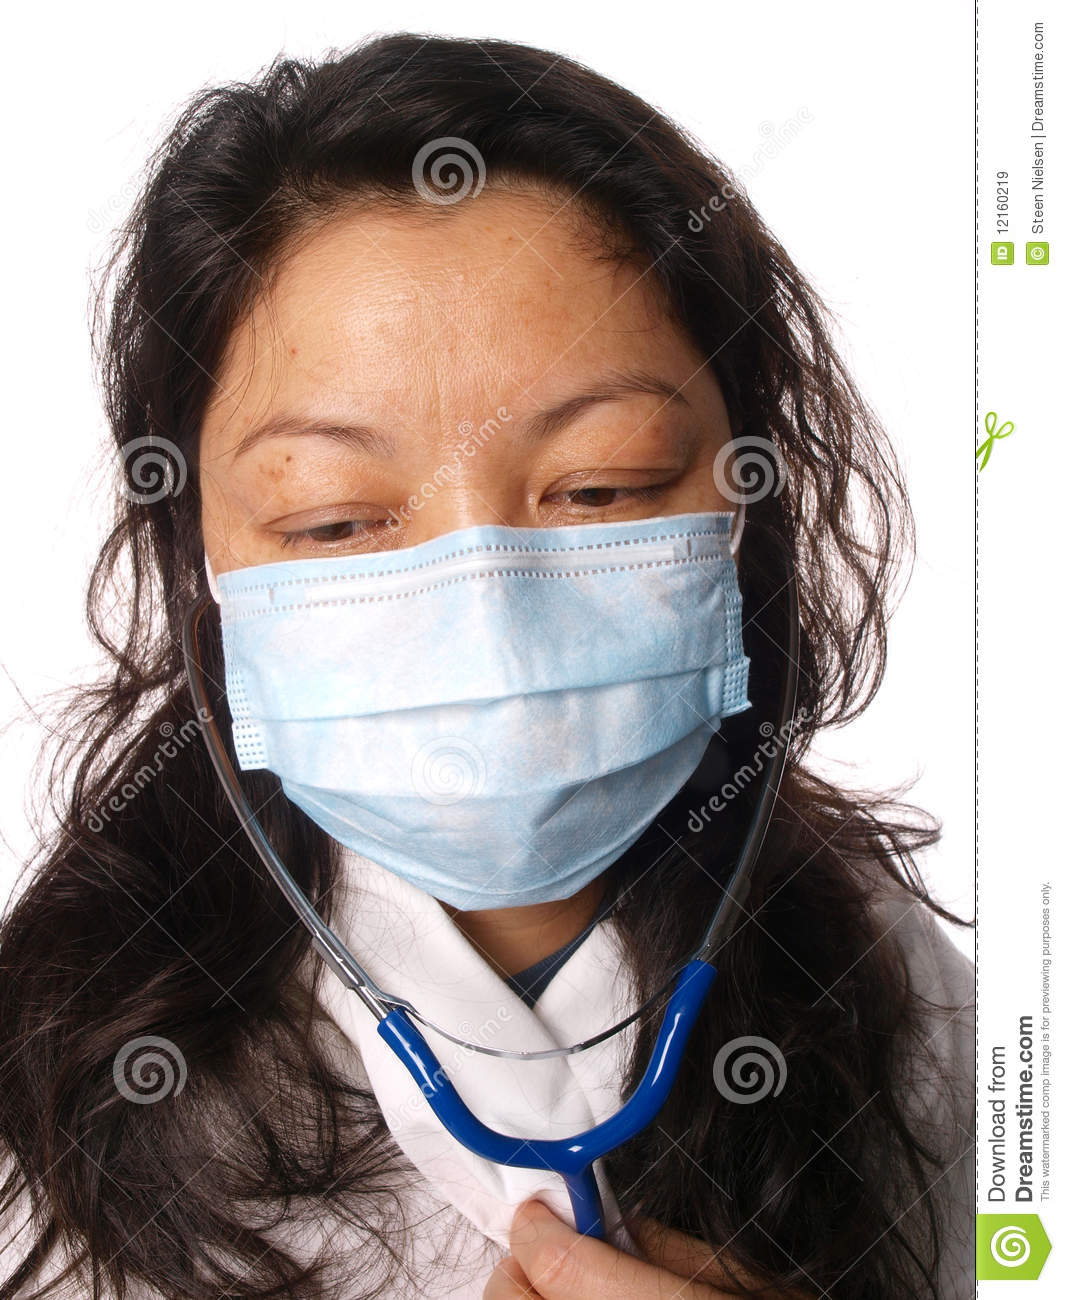mask: (223, 524, 752, 922)
